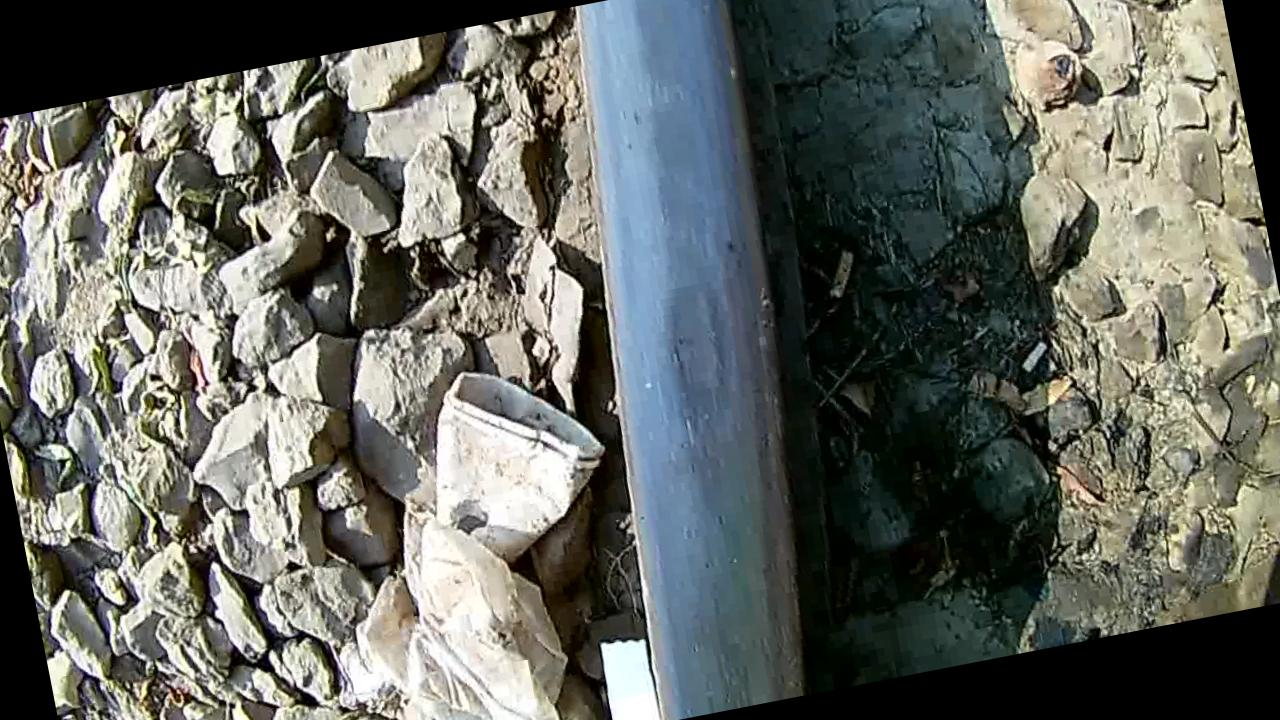bolt_missing: (543, 0, 874, 718)
